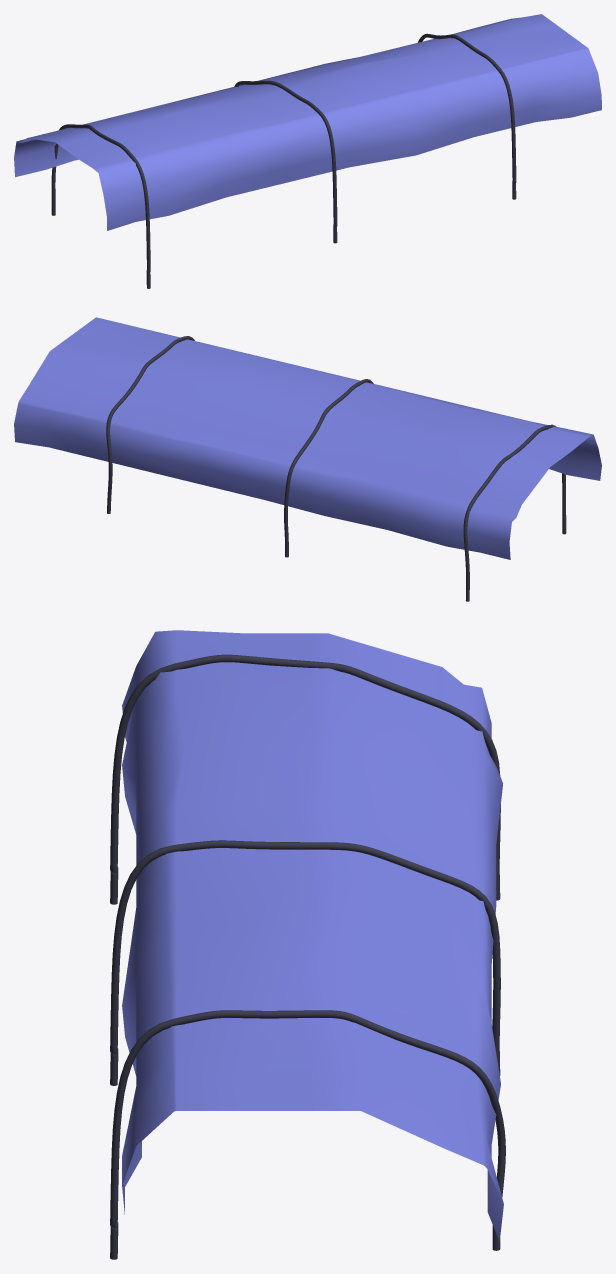
The model's file is Tarp_rooftop.fbx.
3 views of the same model, one above another, from view 1: azimuth 30°, elevation 25°; view 2: azimuth 150°, elevation 25°; view 3: azimuth 270°, elevation 25° (orthographic). The views are drawn at different scales.
Parts seen in each view (by area): view 1: tambat, BézierCurve.002, BézierCurve.001, BézierCurve; view 2: tambat, BézierCurve.002, BézierCurve, BézierCurve.001; view 3: tambat, BézierCurve.001, BézierCurve, BézierCurve.002.
Boxes of the visible parts, x1,y1,x2,y2 form: tambat: [14, 14, 601, 230]; BézierCurve.002: [51, 124, 150, 288]; BézierCurve.001: [234, 80, 337, 243]; BézierCurve: [418, 33, 516, 199]; tambat: [14, 317, 601, 559]; BézierCurve.002: [463, 424, 566, 601]; BézierCurve: [106, 336, 194, 513]; BézierCurve.001: [284, 379, 373, 557]; tambat: [122, 630, 503, 1240]; BézierCurve.001: [110, 840, 500, 1085]; BézierCurve: [110, 1010, 505, 1259]; BézierCurve.002: [110, 654, 500, 904].
Size of the model in its own units: 570 by 137 by 198.
